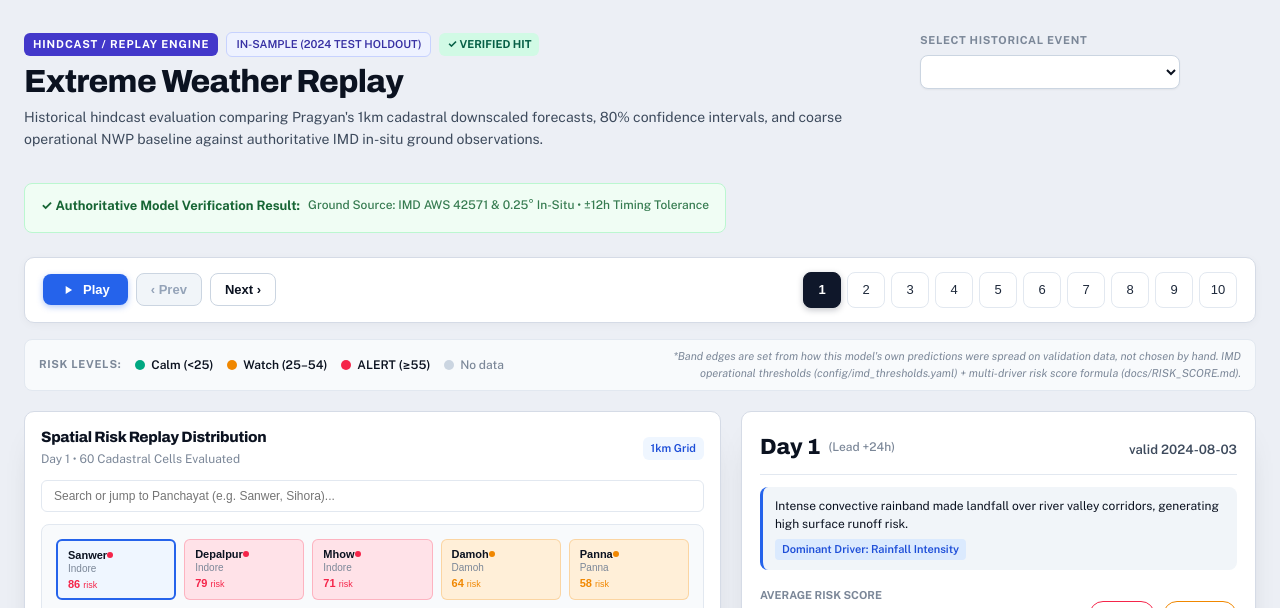
Scenario: PastEventsTab Replay Mode Component › advances active day when clicking Next button or day number
Click the button "2" at (866, 290), box x1=847 y1=272 x2=885 y2=308
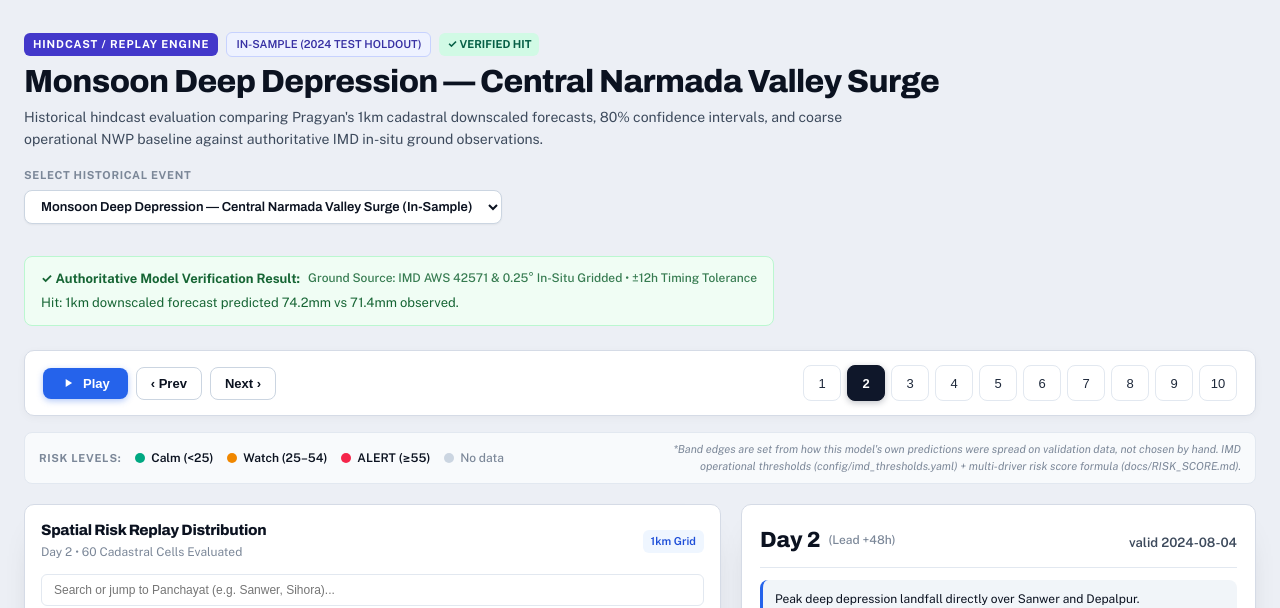
Check: the text "valid 2024-08-04" is shown, box x1=1129 y1=533 x2=1237 y2=553
